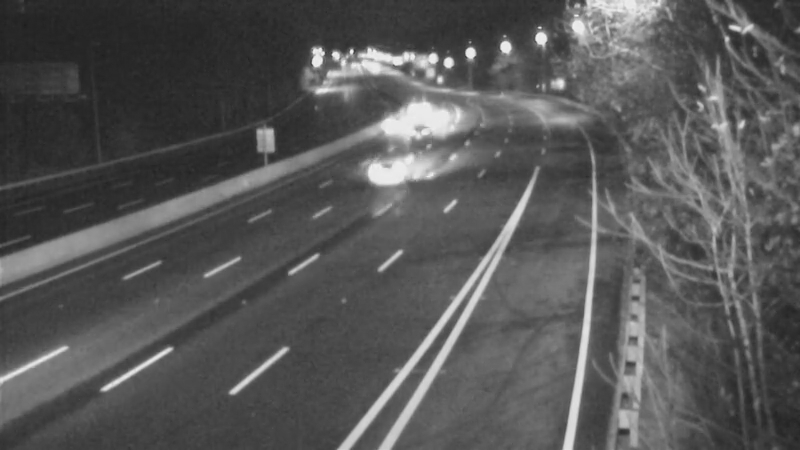vehicle: (344, 133, 424, 213), (392, 74, 442, 124), (418, 89, 468, 139), (373, 95, 423, 145), (393, 111, 443, 161)
